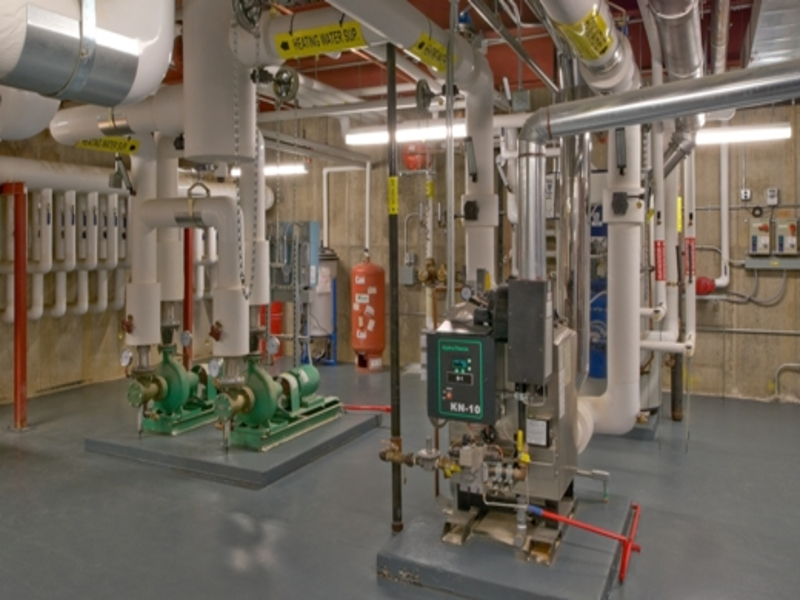valve: (484, 272, 503, 302), (513, 424, 528, 457)
